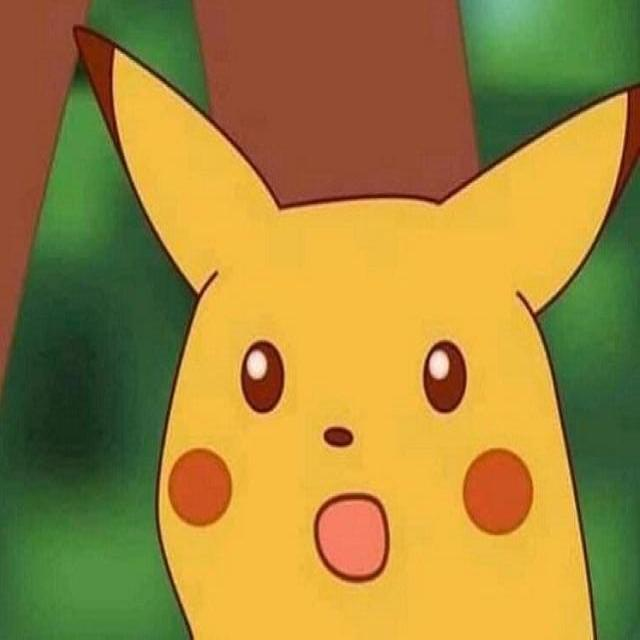pikachu: (75, 22, 639, 640)
